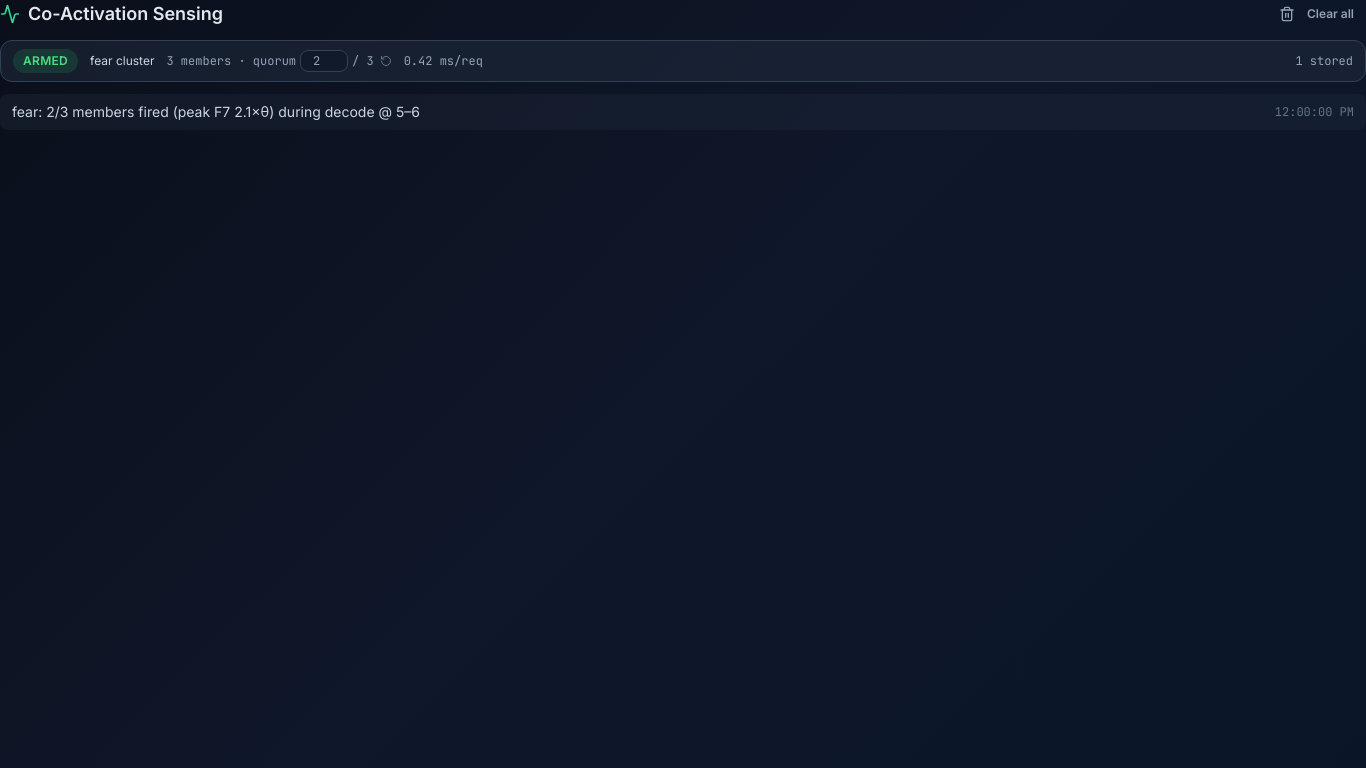
Test: SensingPanel quorum control › falls back to plain context_text without parts
What coordinates should you click on to do the following:
click the text "fear: 2/3 members fired (peak F7 2.1×θ) during decode @ 5–6"
I would click on:
 (216, 112)
Its box is [12,103,420,120].
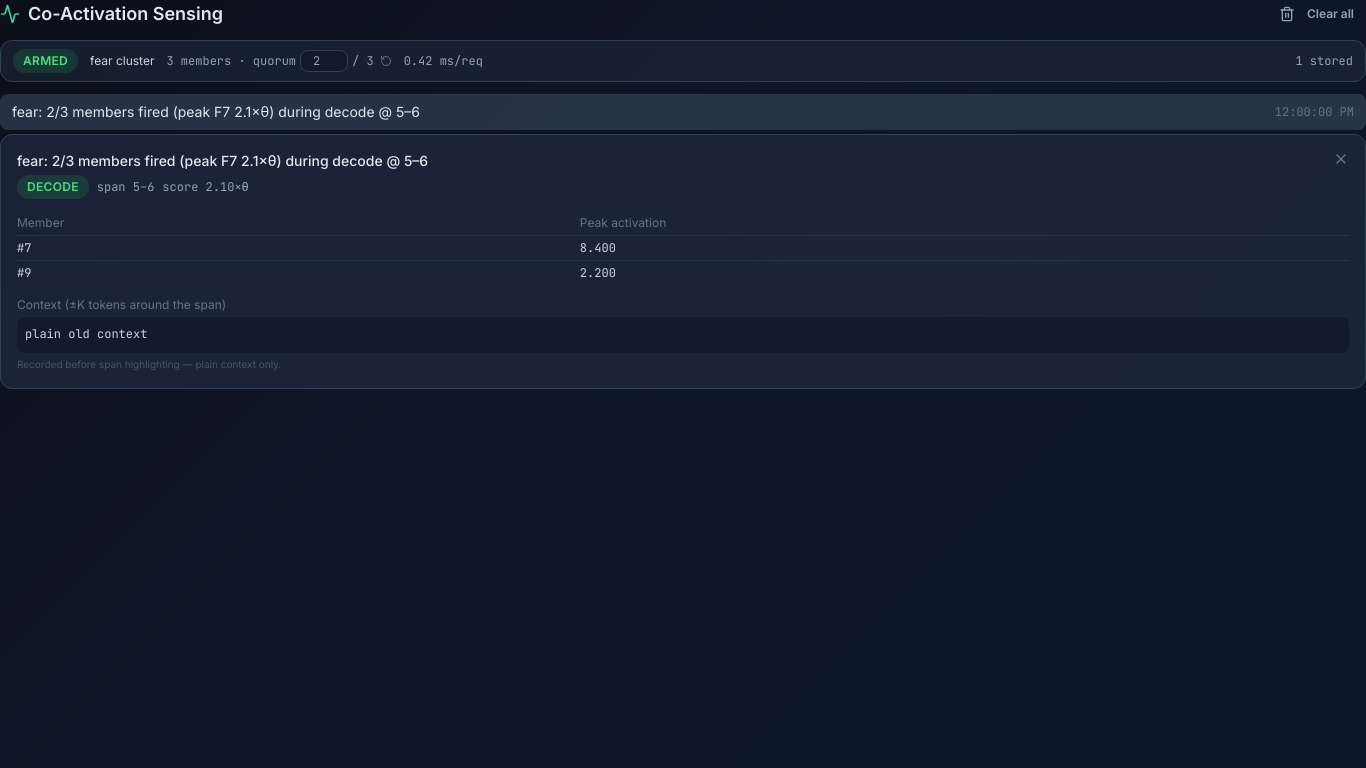
expect the text "plain old context" is shown: met, box [17,317,1349,352]
